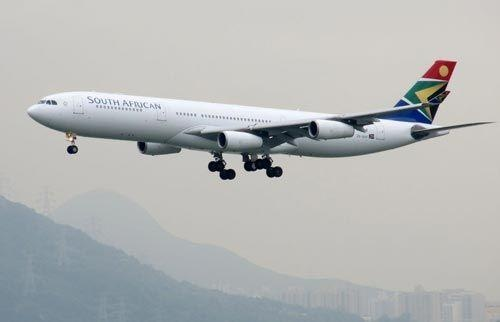airplane: (15, 59, 498, 179)
